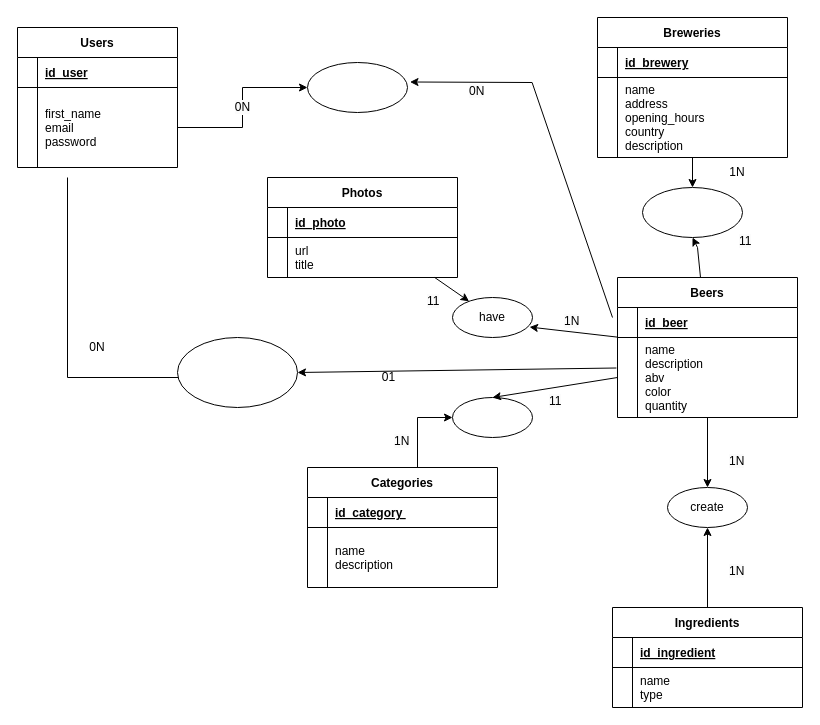
Image size: 820x725. Some labels were removed from this diagram. Each missing label, with the centre of its shape:
"belongs to" belongs at [492,417].
"contains" belongs at [692,212].
"like" belongs at [357,87].
"reviews name description stars" belongs at [237,372].
